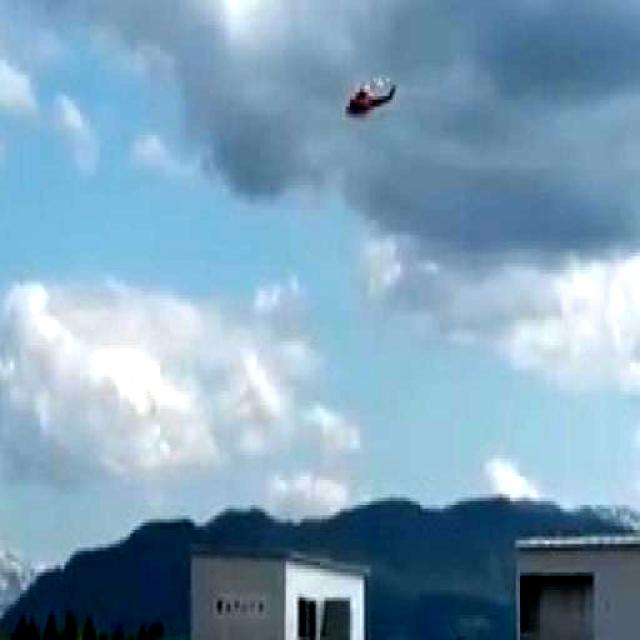drone: (342, 75, 400, 124)
